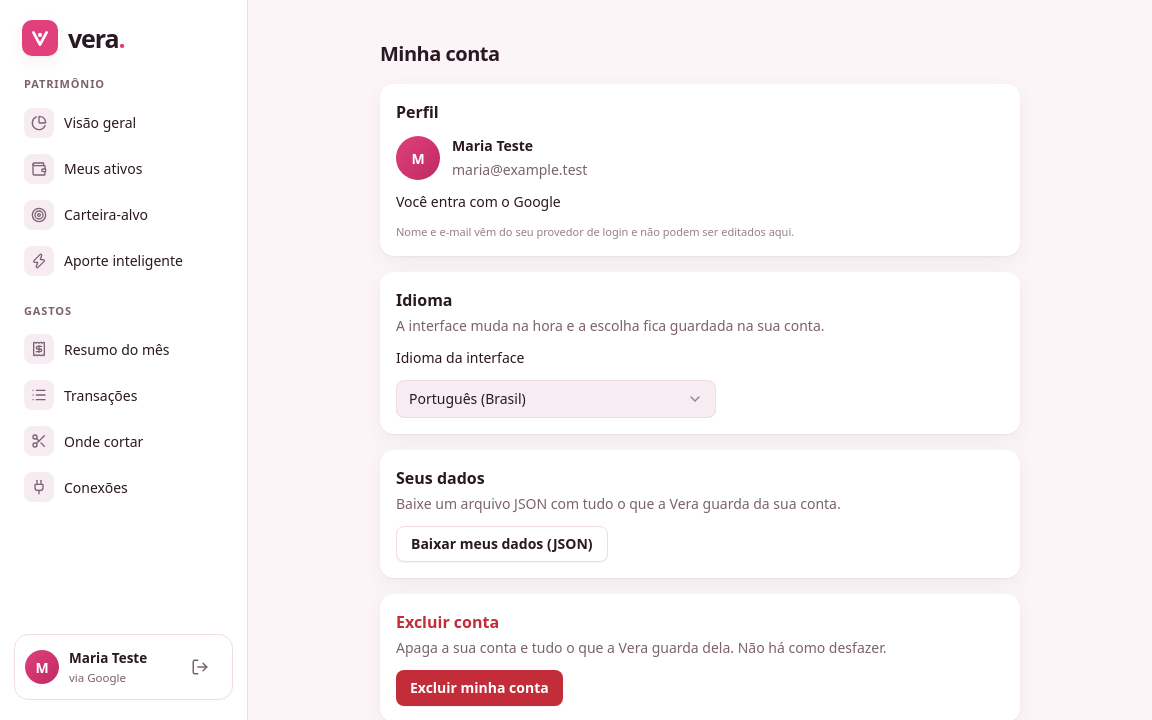
Test: account language › switches the interface at once, saves the preference and updates the session user
Check: the heading "Minha conta" is shown, box [380,40,500,67]
Step 1. Click the dropdown named "Idioma da interface" → (467,398), box [396,380,716,418]
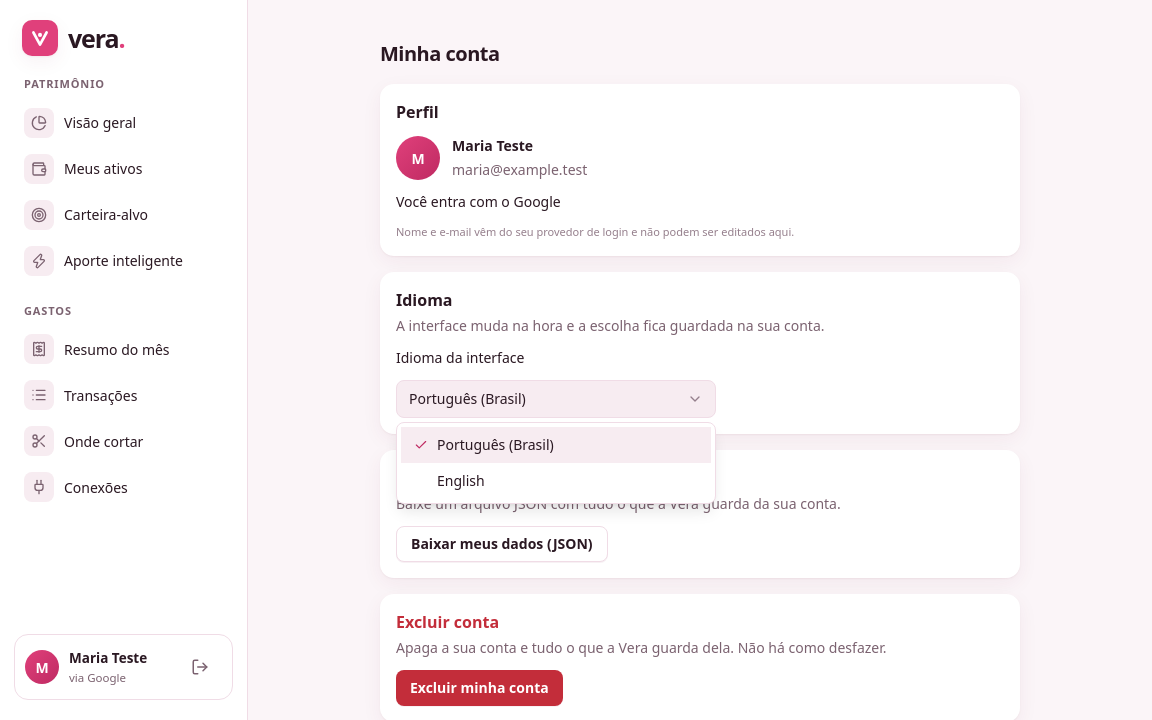
Step 2. Click the option "English" → (461,480), box [437,471,485,490]
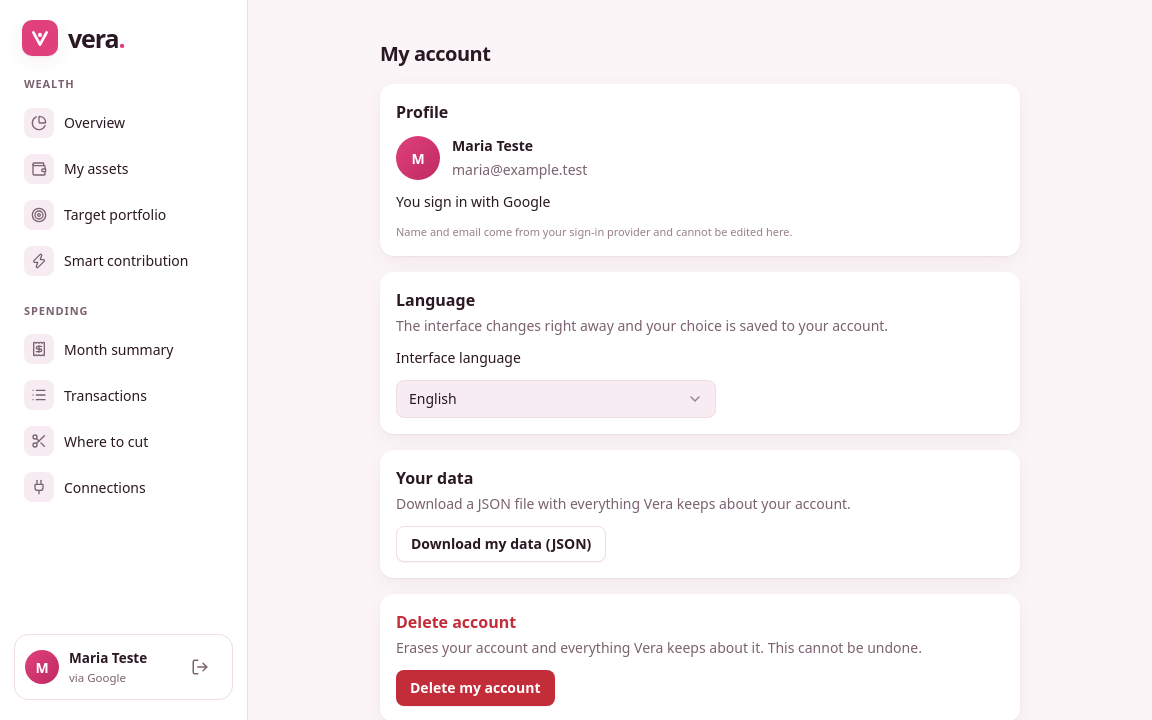
Check: the heading "My account" is shown, box [380,40,490,67]
Check: the dropdown named "Interface language" reads "English", box [396,380,716,418]
